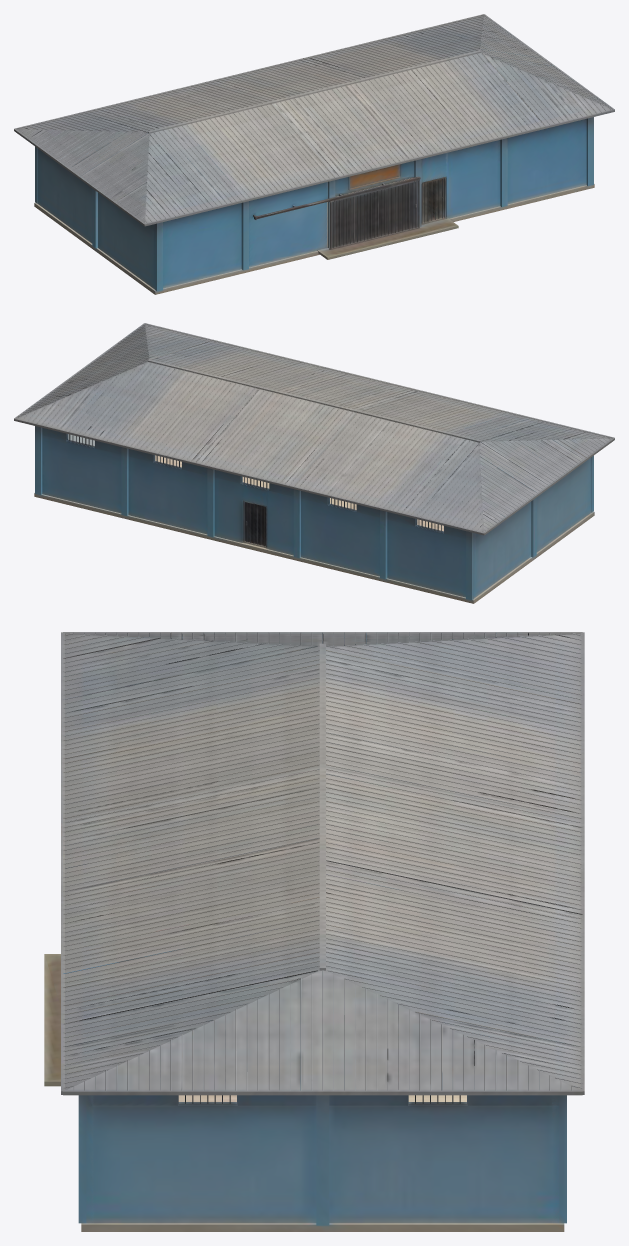
The model's file is warehouse_optimised.glb.
3 views of the same model, one above another, from view 1: azimuth 30°, elevation 25°; view 2: azimuth 150°, elevation 25°; view 3: azimuth 270°, elevation 25° (orthographic). The views are drawn at different scales.
Parts seen in each view (by area): view 1: model; view 2: model; view 3: model.
Boxes of the visible parts, box(x1,y1,x2,y2) form: model: box(14, 14, 614, 294); model: box(14, 323, 614, 603); model: box(44, 632, 584, 1231).
Size of the model in its own units: 1.9 by 0.4079 by 0.9445.
Materials: 1 (1 with a texture image).
